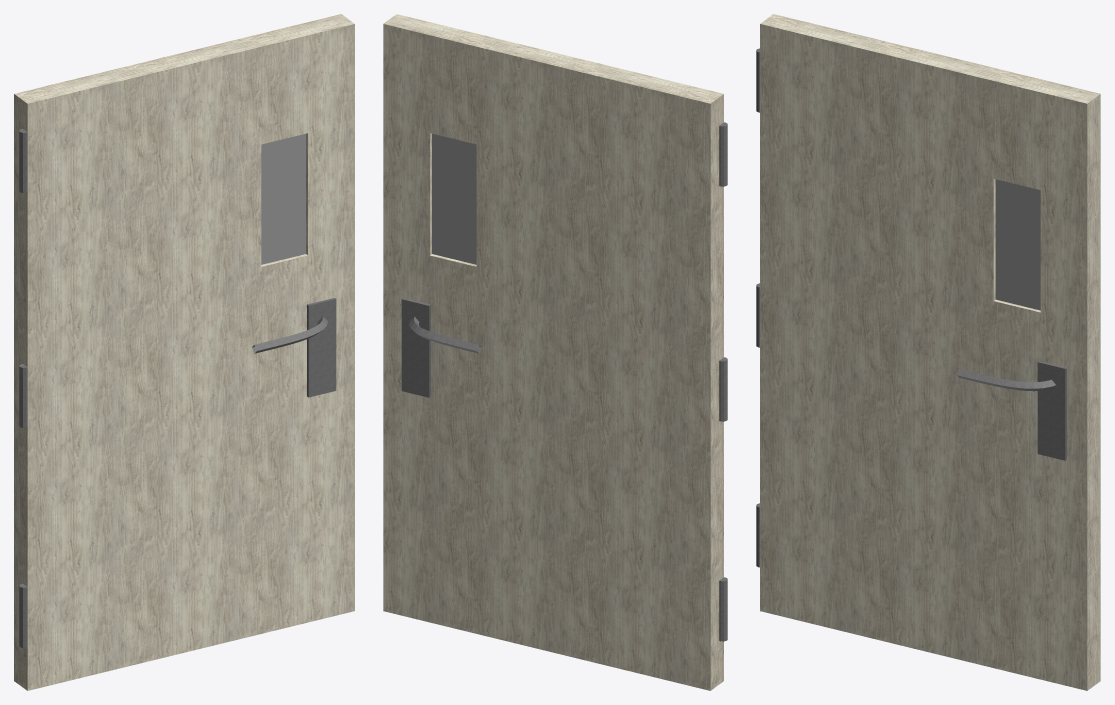
Rendered from single_Door.obj.
3 renders of one model, left to right at view 1: azimuth 30°, elevation 25°; view 2: azimuth 150°, elevation 25°; view 3: azimuth 330°, elevation 25°, orthographic.
Visible parts, largest first — view 1: Cube, Cube.001_Cube.004, Cylinder, BezierCurve_Mesh; view 2: Cube, Cube.001_Cube.004, Cylinder, BezierCurve_Mesh; view 3: Cube, Cube.001_Cube.004, BezierCurve_Mesh, Cylinder.
Part boxes in pixels (bbox=[...]): Cube: bbox=[14, 14, 354, 690]; Cube.001_Cube.004: bbox=[307, 298, 336, 397]; Cylinder: bbox=[19, 129, 27, 647]; BezierCurve_Mesh: bbox=[252, 316, 327, 353]; Cube: bbox=[383, 14, 723, 690]; Cube.001_Cube.004: bbox=[401, 298, 430, 397]; Cylinder: bbox=[719, 122, 727, 641]; BezierCurve_Mesh: bbox=[409, 316, 481, 353]; Cube: bbox=[760, 14, 1100, 690]; Cube.001_Cube.004: bbox=[1037, 361, 1066, 460]; BezierCurve_Mesh: bbox=[957, 369, 1055, 391]; Cylinder: bbox=[756, 48, 759, 567].
Size of the model in its own units: 1.42 by 2.4 by 0.349.
